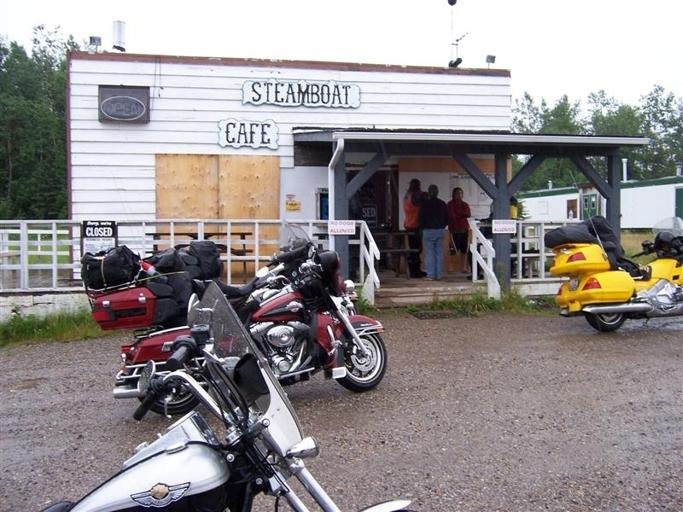non-vehicle: (38, 280, 417, 511), (79, 224, 387, 415), (543, 169, 682, 332)
